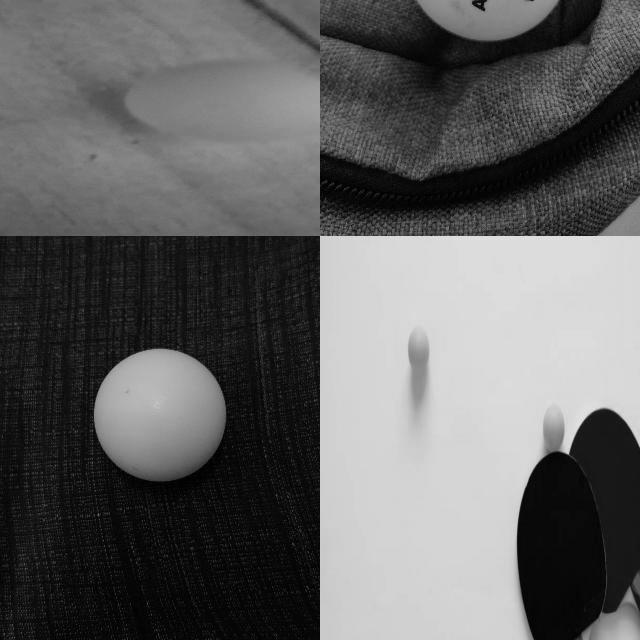ping-pong-ball: (94, 348, 226, 479), (122, 59, 319, 142), (404, 0, 569, 42), (544, 404, 565, 452), (408, 328, 429, 372)
